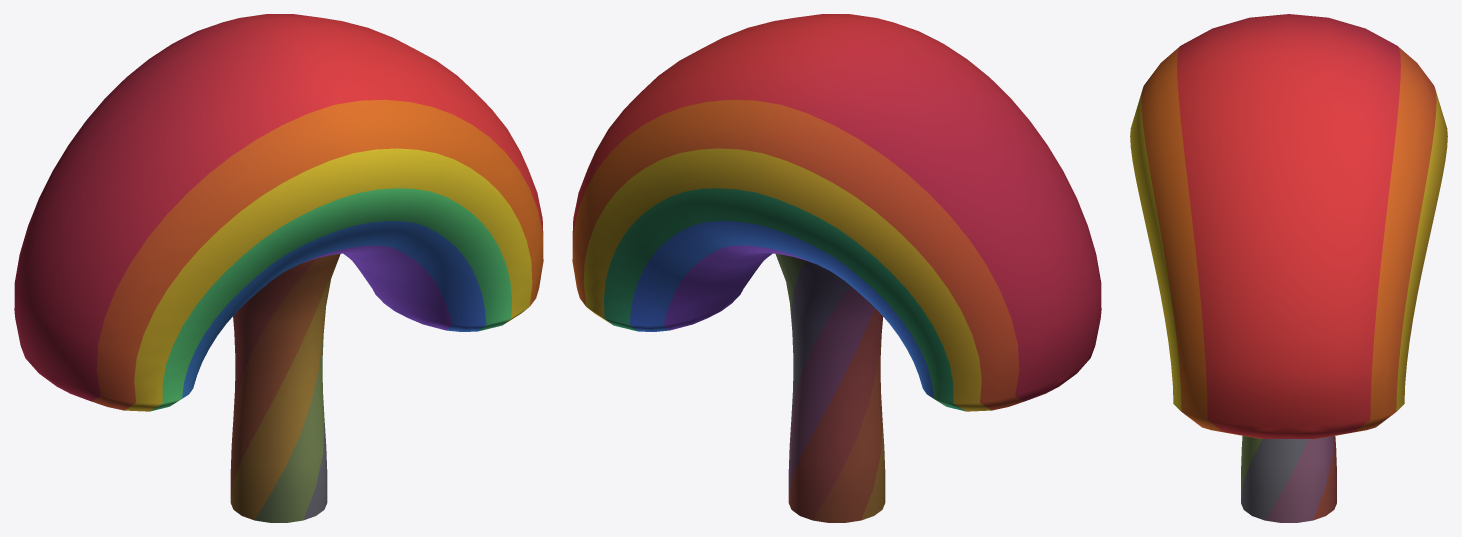
File: Prismwood_Tree_Remake.glb
The picture shows the model from 3 angles, left to right: view 1: azimuth 30°, elevation 25°; view 2: azimuth 150°, elevation 25°; view 3: azimuth 270°, elevation 25°; orthographic projection.
Parts seen in each view (by area): view 1: Prismwood_Remake; view 2: Prismwood_Remake; view 3: Prismwood_Remake.
Boxes of the visible parts, box(x1,y1,x2,y2) form: Prismwood_Remake: box(14, 14, 543, 522); Prismwood_Remake: box(572, 14, 1101, 522); Prismwood_Remake: box(1130, 14, 1447, 522).
Size of the model in its own units: 11.65 by 10.71 by 6.6.
